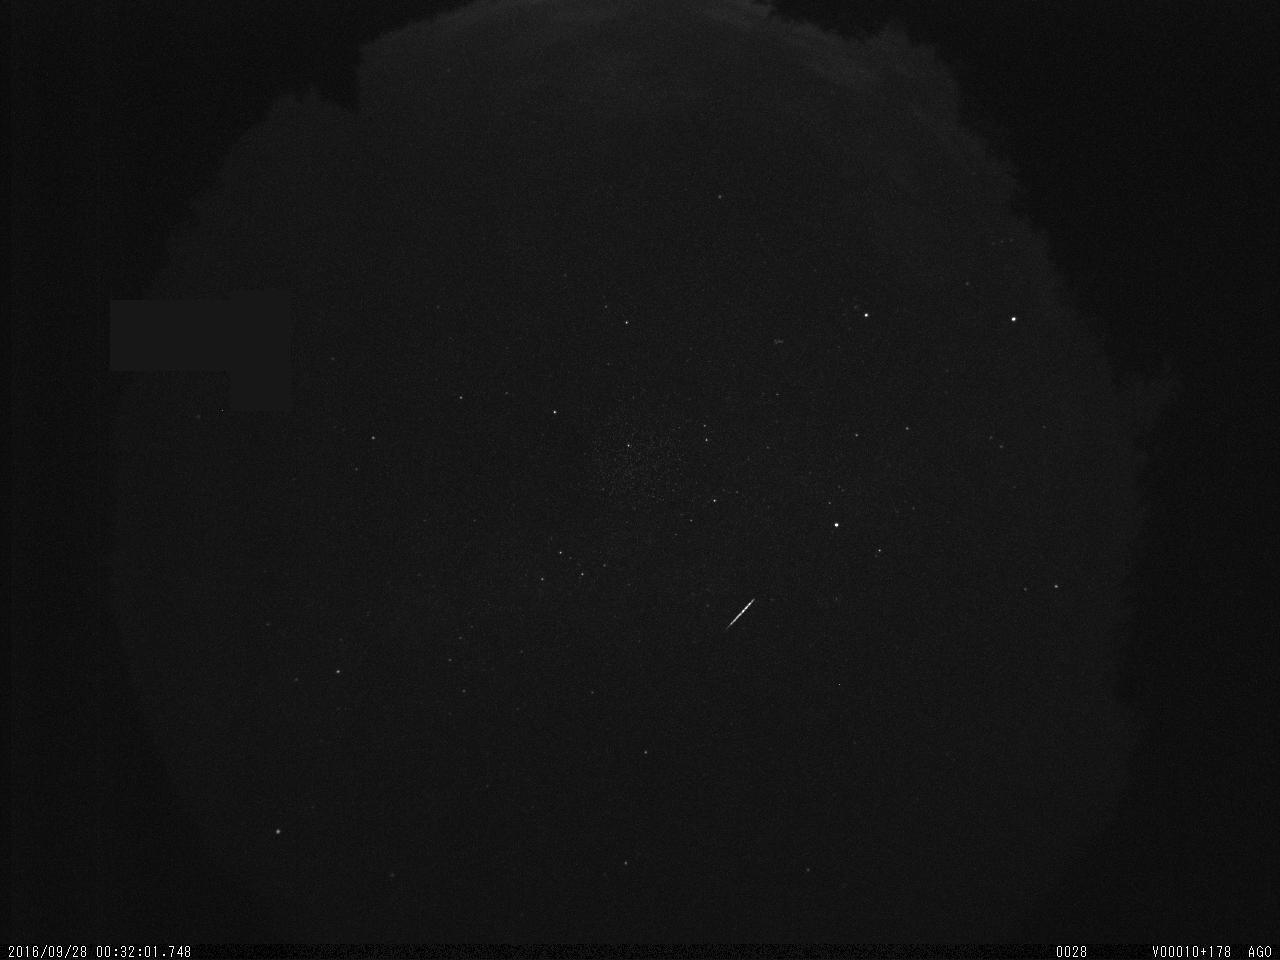Meteor: (724, 594, 758, 632)
